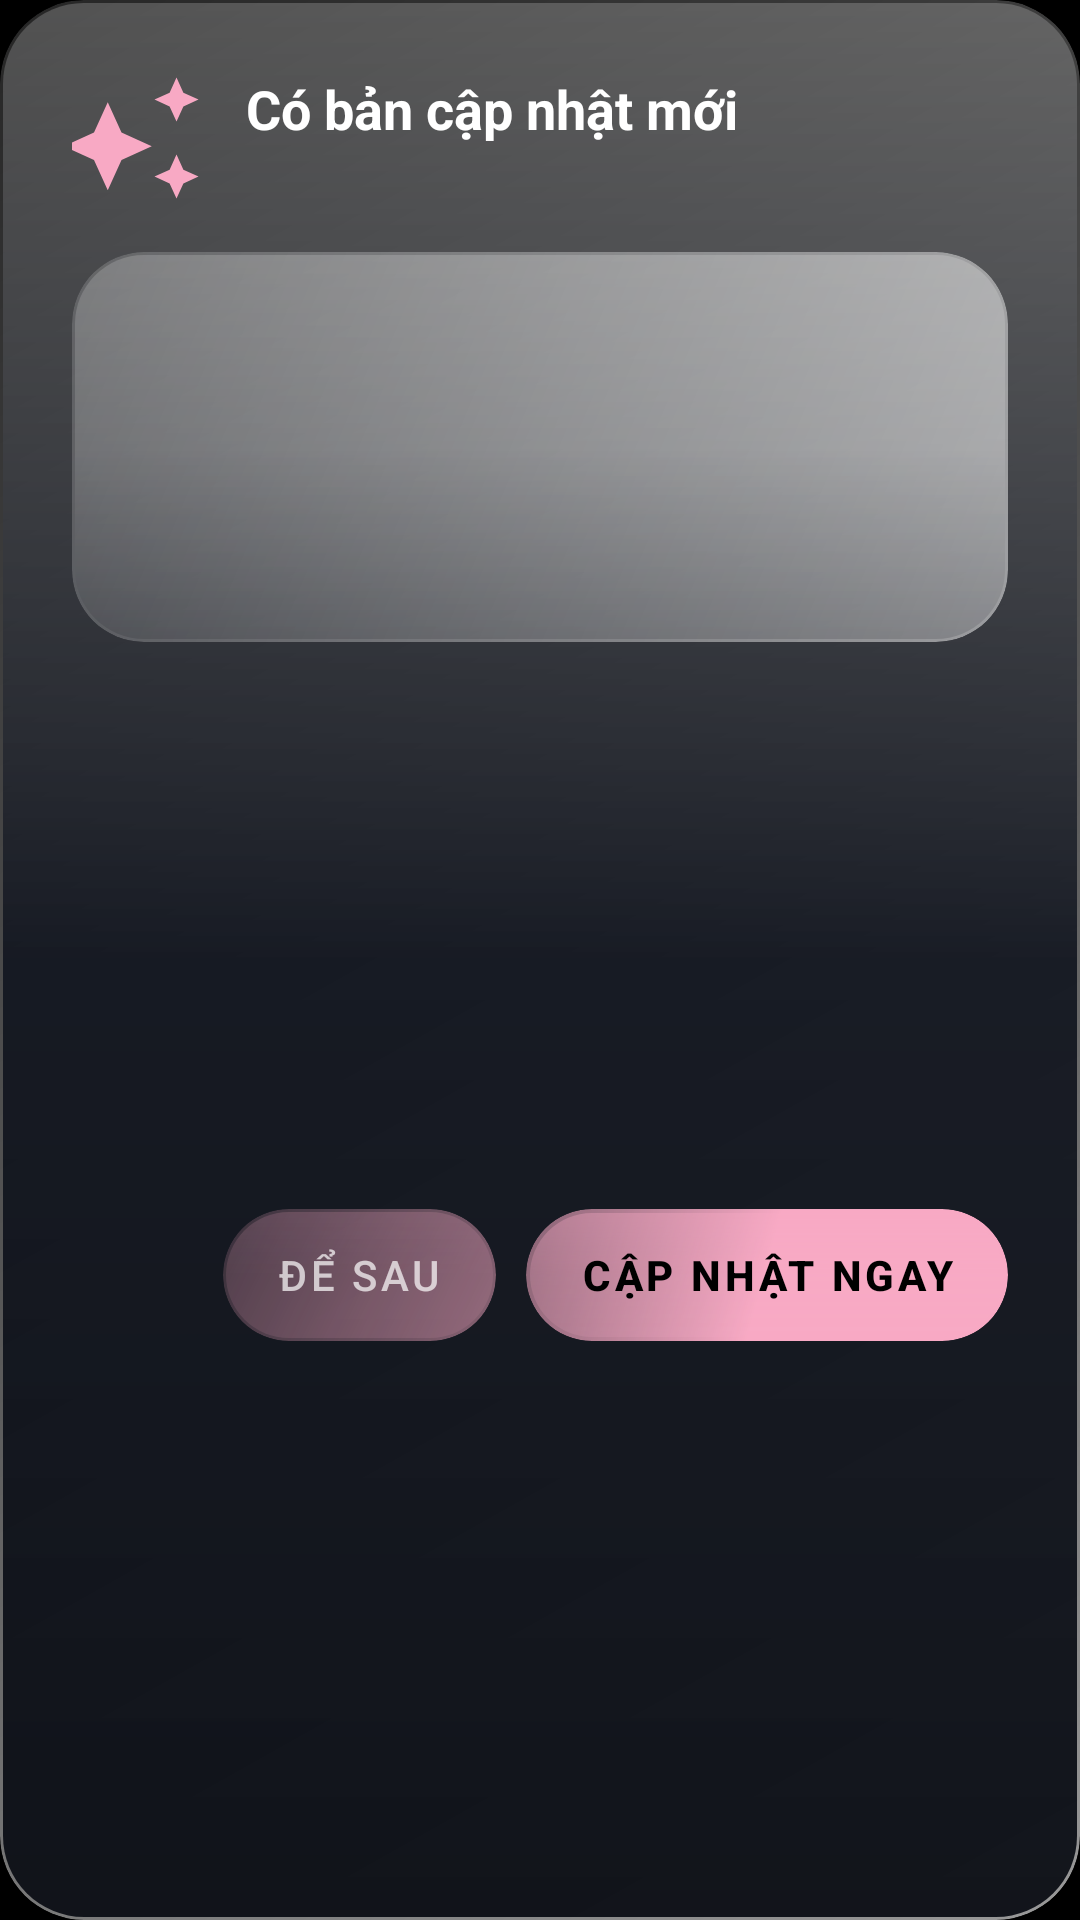

Screen size 1080*1920. Icon name, then its box in pixels as (x1, y1, x2, y2):
sparkles: (72, 78, 198, 198)
